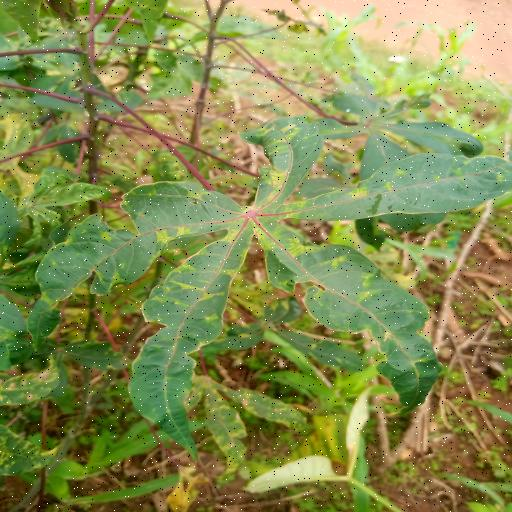Cassava_Mosaic: (28, 110, 512, 462)
